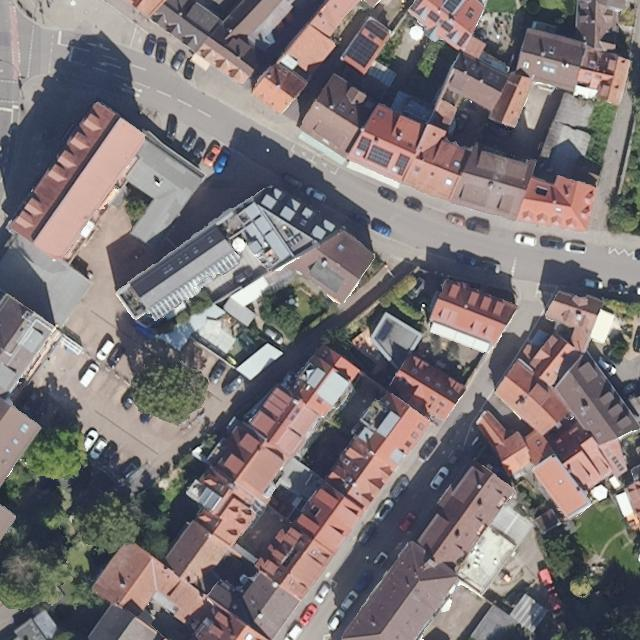PV: (344, 32, 380, 69), (366, 143, 395, 169), (363, 20, 390, 42), (355, 135, 373, 160), (394, 152, 411, 178), (456, 31, 471, 49), (443, 0, 463, 13), (440, 19, 455, 34), (426, 9, 441, 23), (409, 0, 424, 11)
